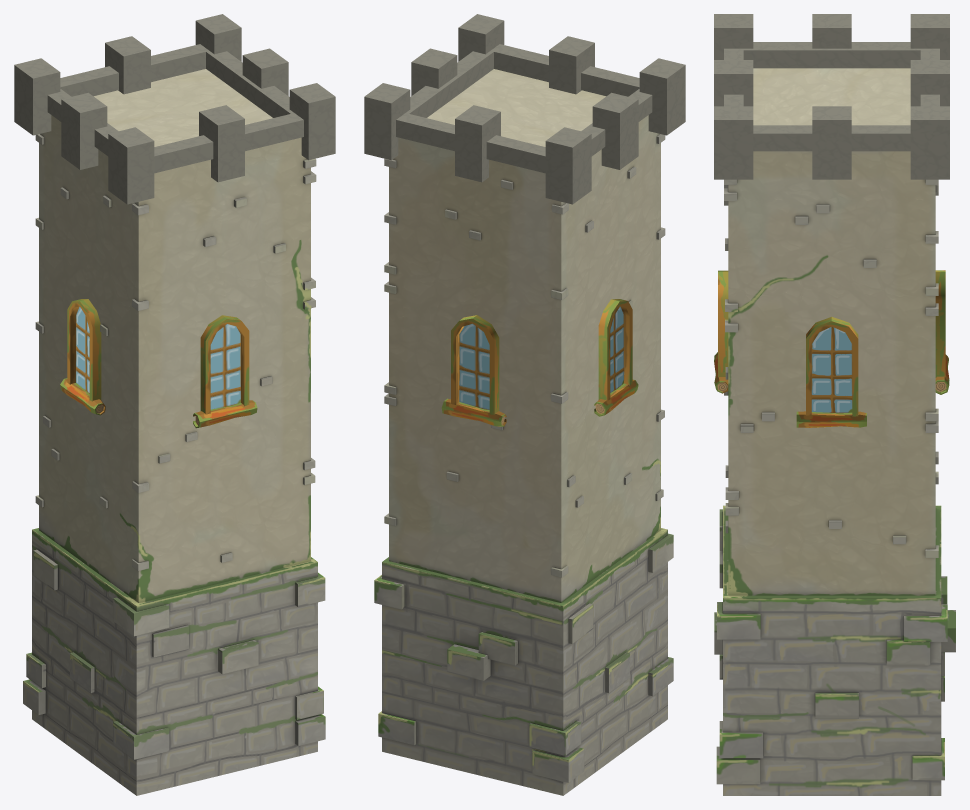
3 views of the same model, side by side, from view 1: azimuth 30°, elevation 25°; view 2: azimuth 150°, elevation 25°; view 3: azimuth 270°, elevation 25° (orthographic). The views are drawn at different scales.
Size of the model in its own units: 230 by 690 by 222.
3 materials, 3 textured.
